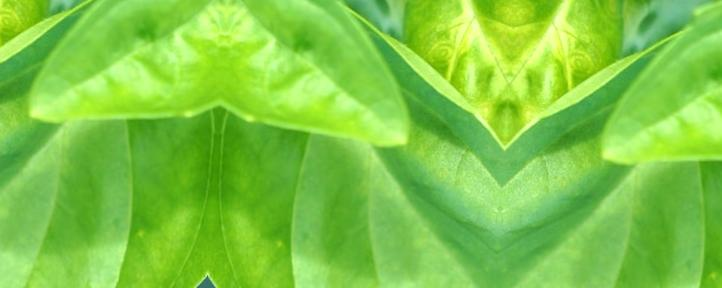Tomato leaf: (192, 46, 511, 288), (278, 0, 531, 268)
